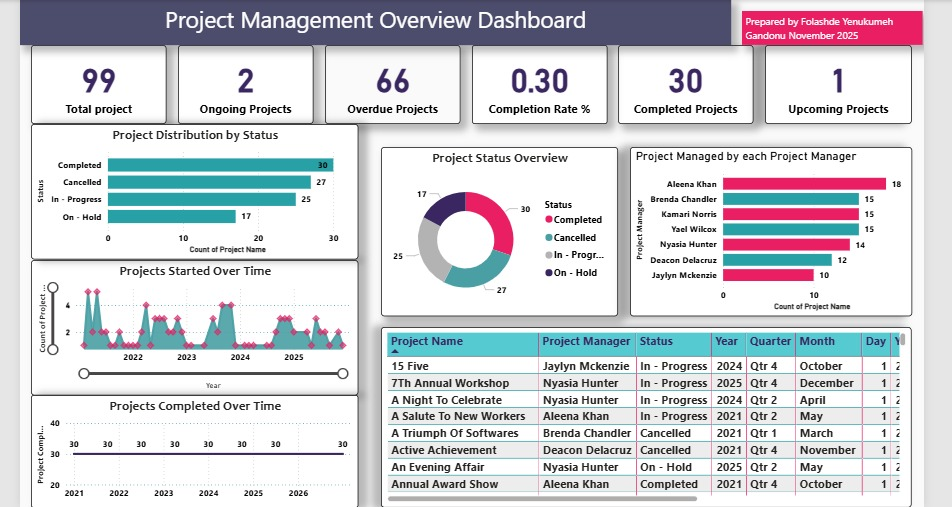

The dashboard page shown, as its layout file describes it:
{"tool":"powerbi","page":{"name":"Page 1","canvas":[1280,720],"ordinal":0},"visuals":[{"type":"card","fields":{"Values":["Project Management Dataset.Total project"]},"box":[16,64,192,112],"z":0},{"type":"card","fields":{"Values":["Project Management Dataset.Completed Projects"]},"box":[848,64,192,112],"z":1000},{"type":"card","fields":{"Values":["CountNonNull(Project Management Dataset.Project Name)"]},"box":[224,64,192,112],"z":2000},{"type":"card","fields":{"Values":["Project Management Dataset.Overdue Projects"]},"box":[432,64,192,112],"z":3000},{"type":"card","fields":{"Values":["Project Management Dataset.Completion Rate %"]},"box":[640,64,192,112],"z":4000},{"type":"card","fields":{"Values":["Project Management Dataset.Upcoming Projects"]},"box":[1056,64,208,112],"z":5000},{"type":"donutChart","title":" Project Status Overview","fields":{"Category":["Project Management Dataset.Status"],"Y":["CountNonNull(Project Management Dataset.Project Name)"]},"box":[512,208,336,240],"z":6000},{"type":"clusteredBarChart","title":" Project Managed by each Project Manager","fields":{"Category":["Project Management Dataset.Project Manager"],"Y":["CountNonNull(Project Management Dataset.Project Name)"]},"box":[864,208,400,240],"z":7000},{"type":"lineChart","title":"Projects Started Over Time","fields":{"Category":["Project Management Dataset.Start Date.Variation.Date Hierarchy.Year","Project Management Dataset.Start Date.Variation.Date Hierarchy.Quarter","Project Management Dataset.Start Date.Variation.Date Hierarchy.Month","Project Management Dataset.Start Date.Variation.Date Hierarchy.Day"],"Y":["CountNonNull(Project Management Dataset.Project Name)"]},"box":[16,368,464,192],"z":8000},{"type":"lineChart","title":"Projects Completed Over  Time","fields":{"Category":["Project Management Dataset.End Date.Variation.Date Hierarchy.Year","Project Management Dataset.End Date.Variation.Date Hierarchy.Quarter","Project Management Dataset.End Date.Variation.Date Hierarchy.Month","Project Management Dataset.End Date.Variation.Date Hierarchy.Day"],"Y":["Project Management Dataset.Project Completed Over Time"]},"box":[16,560,464,160],"z":9000},{"type":"tableEx","fields":{"Values":["Project Management Dataset.Project Name","Project Management Dataset.Project Manager","Project Management Dataset.Status","Project Management Dataset.Start Date.Variation.Date Hierarchy.Year","Project Management Dataset.Start Date.Variation.Date Hierarchy.Quarter","Project Management Dataset.Start Date.Variation.Date Hierarchy.Month","Project Management Dataset.Start Date.Variation.Date Hierarchy.Day","Project Management Dataset.End Date.Variation.Date Hierarchy.Year","Project Management Dataset.End Date.Variation.Date Hierarchy.Quarter","Project Management Dataset.End Date.Variation.Date Hierarchy.Month","Project Management Dataset.End Date.Variation.Date Hierarchy.Day","Project Management Dataset.Department"]},"box":[512,464,752,256],"z":10000},{"type":"clusteredBarChart","title":" Project Distribution by Status","fields":{"Category":["Project Management Dataset.Status"],"Y":["CountNonNull(Project Management Dataset.Project Name)"]},"box":[16,176,464,192],"z":11000},{"type":"textbox","box":[0,0,1008,64],"z":12000},{"type":"textbox","box":[1024,16,256,48],"z":13000}]}

Visuals, with their boxes on the page's 1280x720 design canvas (x1, y1, x2, y2). These are canvas units, not pixel positions in the 952x507 screenshot, which may show the page scaled, cropped or inside an application window:
card - Project Management Dataset.Total project: [x1=16, y1=64, x2=208, y2=176]
card - Project Management Dataset.Completed Projects: [x1=848, y1=64, x2=1040, y2=176]
card - CountNonNull(Project Management Dataset.Project Name): [x1=224, y1=64, x2=416, y2=176]
card - Project Management Dataset.Overdue Projects: [x1=432, y1=64, x2=624, y2=176]
card - Project Management Dataset.Completion Rate %: [x1=640, y1=64, x2=832, y2=176]
card - Project Management Dataset.Upcoming Projects: [x1=1056, y1=64, x2=1264, y2=176]
" Project Status Overview" donutChart: [x1=512, y1=208, x2=848, y2=448]
" Project Managed by each Project Manager" clusteredBarChart: [x1=864, y1=208, x2=1264, y2=448]
"Projects Started Over Time" lineChart: [x1=16, y1=368, x2=480, y2=560]
"Projects Completed Over  Time" lineChart: [x1=16, y1=560, x2=480, y2=720]
tableEx - Project Management Dataset.Project Name x Project Management Dataset.Project Manager: [x1=512, y1=464, x2=1264, y2=720]
" Project Distribution by Status" clusteredBarChart: [x1=16, y1=176, x2=480, y2=368]
textbox: [x1=0, y1=0, x2=1008, y2=64]
textbox: [x1=1024, y1=16, x2=1280, y2=64]
